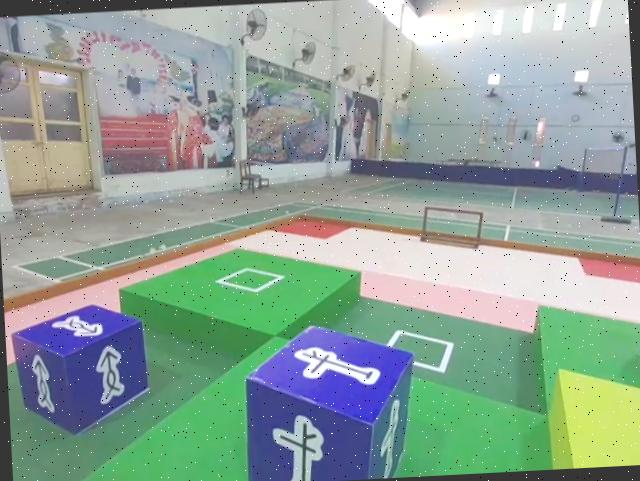R2 Real Blue: (239, 319, 421, 481), (9, 301, 150, 439)
